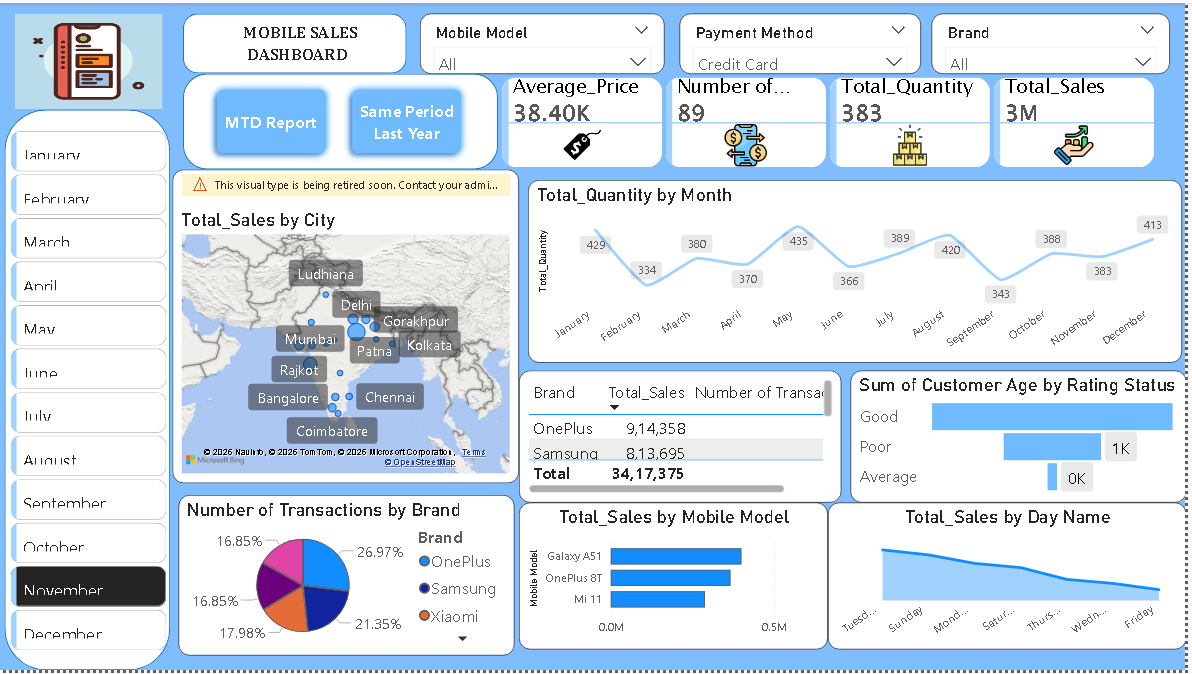

This screenshot's page, from the dashboard's own definition file:
{"tool":"powerbi","page":{"name":"Dashboard","canvas":[1280,720],"ordinal":0},"visuals":[{"type":"image","box":[16.4,11.5,159.1,103.3],"z":0},{"type":"shape","box":[4.9,114.8,178.8,605.3],"z":1000},{"type":"shape","box":[197.5,76.1,340,103.6],"z":2000},{"type":"advancedSlicerVisual","fields":{"Values":["Query1.Date.Variation.Date Hierarchy.Month"]},"box":[6.5,132.8,178.1,571.6],"z":3000},{"type":"cardVisual","fields":{"Data":["Sheet.Average_Price","Sheet.Number of Transactions","Sheet.Total_Quantity","Sheet.Total_Sales"]},"box":[524.6,63.1,738.4,131.2],"z":4000},{"type":"slicer","fields":{"Values":["Sheet.Mobile Model"]},"box":[452.7,11.5,264.1,65.6],"z":5000},{"type":"slicer","fields":{"Values":["Sheet.Payment Method"]},"box":[733.2,11.5,260.8,65.6],"z":6000},{"type":"slicer","fields":{"Values":["Sheet.Brand"]},"box":[1005.5,11.5,257.5,65.6],"z":7000},{"type":"shape","box":[197.5,11.3,241.3,64.8],"z":8000},{"type":"textbox","box":[257.5,13,147.3,59.9],"z":9000},{"type":"map","fields":{"Category":["Sheet.City"],"Size":["Sheet.Total_Sales"]},"box":[186.2,179.7,374,338.4],"z":10000},{"type":"lineChart","fields":{"Category":["Query1.Date.Variation.Date Hierarchy.Month"],"Y":["Sheet.Total_Quantity"]},"box":[570,191.1,706,197.5],"z":11000},{"type":"funnel","fields":{"Y":["Sum(Sheet.Customer Age)"],"Category":["Sheet.Rating Status"]},"box":[918.1,396.7,362.7,142.5],"z":12000},{"type":"pieChart","fields":{"Category":["Sheet.Brand"],"Y":["Sheet.Number of Transactions"]},"box":[192.7,531.1,362.7,173.3],"z":13000},{"type":"clusteredBarChart","fields":{"Y":["Sheet.Total_Sales"],"Category":["Sheet.Mobile Model"]},"box":[560.3,539.2,333.6,158.7],"z":14000},{"type":"areaChart","fields":{"Y":["Sheet.Total_Sales"],"Category":["Query1.Day Name"]},"box":[893.8,539.2,387,158.7],"z":15000},{"type":"tableEx","fields":{"Values":["Sheet.Brand","Sheet.Total_Sales","Sheet.Number of Transactions"]},"box":[560.3,396.7,348.1,142.5],"z":16000},{"type":"pageNavigator","box":[225.1,84.2,283.4,87.4],"z":17000}]}

Visuals, with their boxes in screenshot pixels (x1, y1, x2, y2), scaled from the page's 1280x720 canvas onto the 1192x674 screenshot:
image: [15,11,163,107]
shape: [5,107,171,673]
shape: [184,71,501,168]
advancedSlicerVisual - Query1.Date.Variation.Date Hierarchy.Month: [6,124,172,659]
cardVisual - Sheet.Average_Price x Sheet.Number of Transactions: [489,59,1176,182]
slicer - Sheet.Mobile Model: [422,11,668,72]
slicer - Sheet.Payment Method: [683,11,926,72]
slicer - Sheet.Brand: [936,11,1176,72]
shape: [184,11,409,71]
textbox: [240,12,377,68]
map - Sheet.City x Sheet.Total_Sales: [173,168,522,485]
lineChart - Query1.Date.Variation.Date Hierarchy.Month x Sheet.Total_Quantity: [531,179,1188,364]
funnel - Sum(Sheet.Customer Age) x Sheet.Rating Status: [855,371,1191,505]
pieChart - Sheet.Brand x Sheet.Number of Transactions: [179,497,517,659]
clusteredBarChart - Sheet.Total_Sales x Sheet.Mobile Model: [522,505,832,653]
areaChart - Sheet.Total_Sales x Query1.Day Name: [832,505,1191,653]
tableEx - Sheet.Brand x Sheet.Total_Sales: [522,371,846,505]
pageNavigator: [210,79,474,161]
